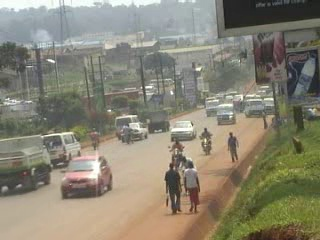Car: (57, 153, 115, 201), (118, 121, 151, 146), (166, 120, 195, 144)
Motorcycle: (164, 137, 184, 171), (197, 130, 216, 156), (122, 123, 134, 146), (91, 126, 99, 152)
